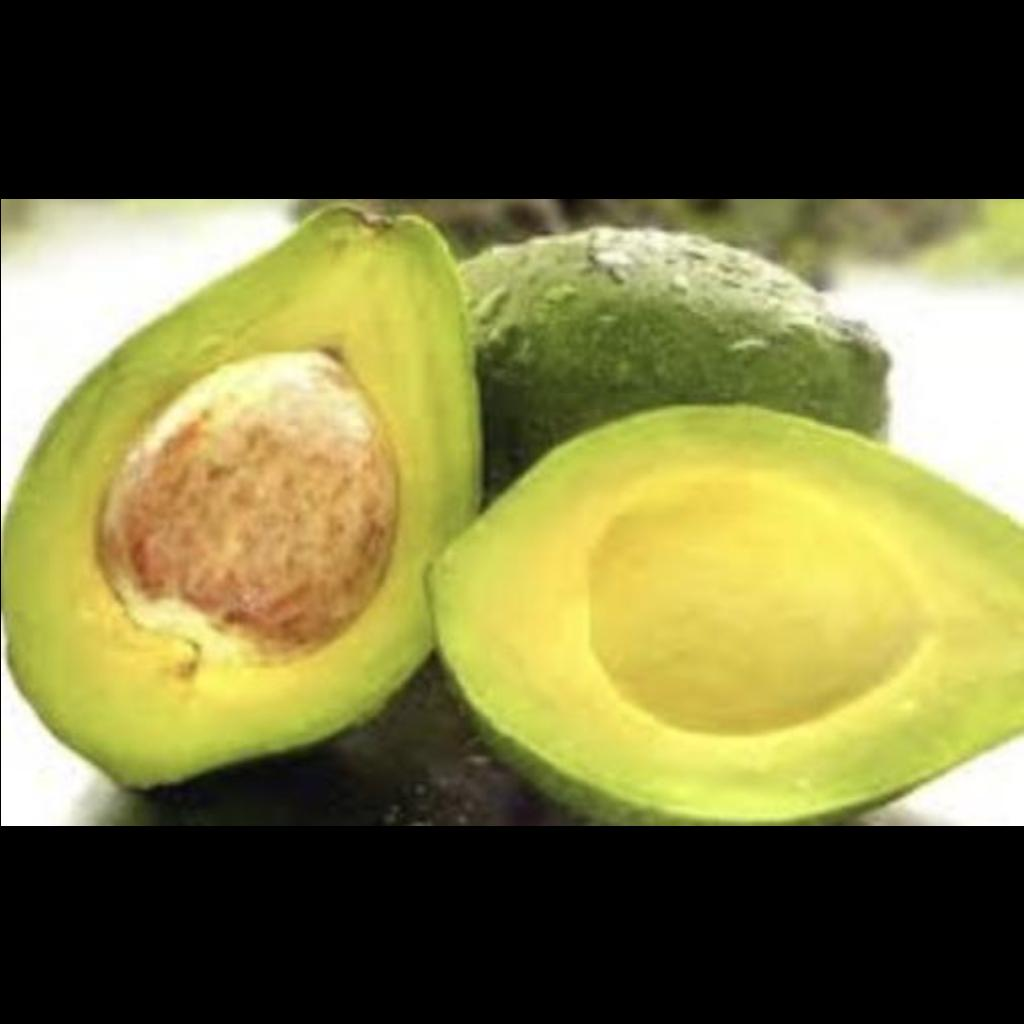fruto_sano: (21, 248, 484, 812), (428, 384, 1012, 803), (489, 211, 891, 419)
